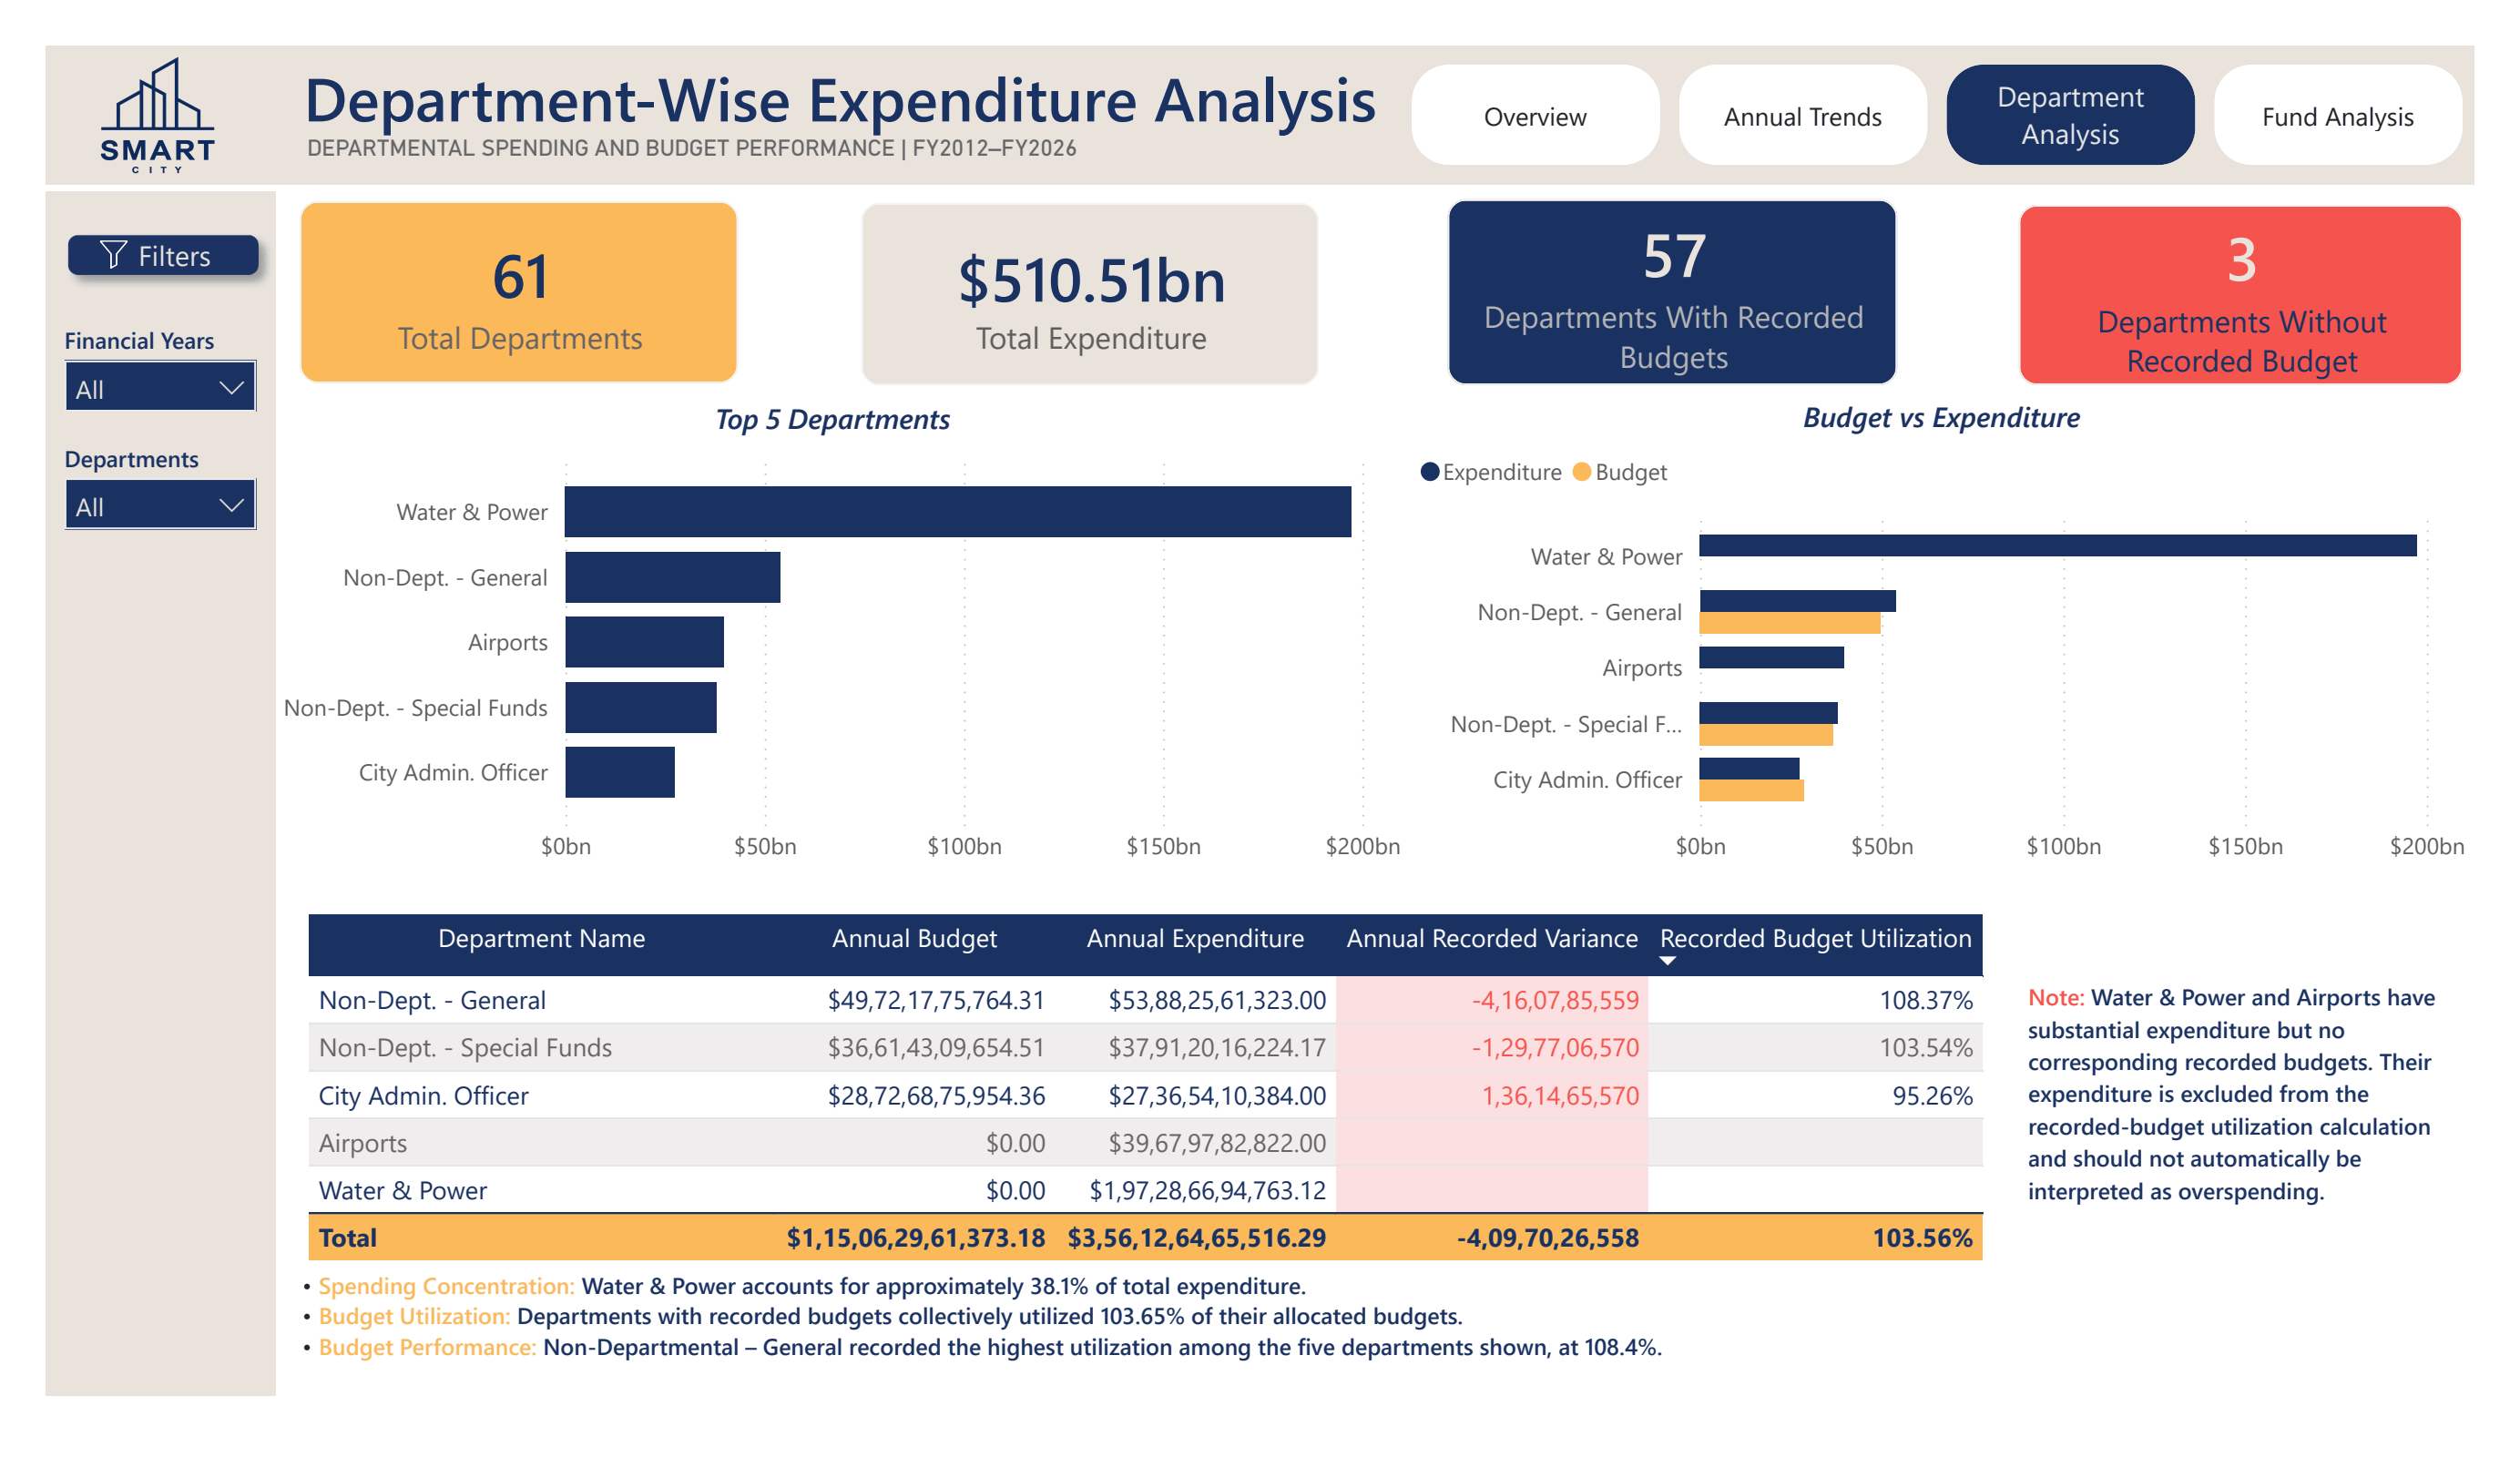

The page's visual inventory and layout, read from the dashboard file:
{"tool":"powerbi","page":{"name":"Department Analysis","canvas":[1280,720],"ordinal":2},"visuals":[{"type":"shape","box":[0,76.7,121.4,635.7],"z":0},{"type":"shape","box":[0,0,1280,72.9],"z":1000},{"type":"textbox","title":"LOS ANGELES CITY BUDGET | FY2012–FY2026","box":[131.4,0,628.6,145.7],"z":2000},{"type":"image","box":[4.3,0,107.1,72.9],"z":3000},{"type":"textbox","box":[132.9,38.6,482.9,100],"z":4000},{"type":"shape","box":[2.5,91.2,118.8,38.4],"z":5000},{"type":"image","box":[27.9,98.4,15.8,24.2],"z":6000},{"type":"textbox","box":[43.6,95,87.7,38.2],"z":7000},{"type":"slicer","fields":{"Values":["Dim_FiscalYear.Fiscal Year"]},"box":[0,156.4,120.9,43.6],"z":8000},{"type":"textbox","box":[4.5,141,133.5,30],"z":9000},{"type":"slicer","fields":{"Values":["Dim_Department.Department Name"]},"box":[0,217.8,121.1,70],"z":10000},{"type":"textbox","box":[4.7,202.7,133.3,30],"z":11000},{"type":"cardVisual","fields":{"Data":["Measures (2).Annual Department Expenditure"]},"box":[430,82.9,241.4,95.7],"z":12000},{"type":"cardVisual","fields":{"Data":["Measures (2).Total Departments"]},"box":[132.9,81.4,232.9,97.1],"z":13000},{"type":"cardVisual","fields":{"Data":["Measures (2).Departments With Recorded Budgets"]},"box":[738.6,81.4,237.1,97.1],"z":14000},{"type":"cardVisual","fields":{"Data":["Measures (2).Departments Without Recorded Budget"]},"box":[1040,84.3,234.3,94.3],"z":15000},{"type":"clusteredBarChart","title":"Top 5 Departments","fields":{"Y":["Measures (2).Annual Department Expenditure"],"Category":["Dim_Department.Department Display Name"]},"box":[111,186,608,254],"z":16000},{"type":"textbox","box":[150,467.1,638.6,105.7],"z":17000},{"type":"textbox","box":[1040,487.1,230,232.9],"z":18000},{"type":"clusteredBarChart","title":"Budget vs Expenditure","fields":{"Y":["Measures (2).Annual Department Expenditure","Measures (2).Annual Department Budget"],"Category":["Dim_Department.Department Display Name"]},"box":[719,185,561,255],"z":19000},{"type":"tableEx","fields":{"Values":["Dim_Department.Department Display Name","Measures (2).Annual Department Budget","Measures (2).Annual Department Expenditure","Measures (2).Annual Department Recorded Variance","Measures (2).Recorded Budget Utilization %"]},"box":[132.9,452.9,937.1,197.1],"z":20000},{"type":"textbox","box":[121.4,640,1058.6,80],"z":21000},{"type":"pageNavigator","box":[720,10,554.3,52.9],"z":22000}]}

Visuals, with their boxes on the page's 1280x720 design canvas (x1, y1, x2, y2). These are canvas units, not pixel positions in the 2520x1457 screenshot, which may show the page scaled, cropped or inside an application window:
shape: <box>0,77,121,712</box>
shape: <box>0,0,1280,73</box>
"LOS ANGELES CITY BUDGET | FY2012–FY2026" textbox: <box>131,0,760,146</box>
image: <box>4,0,111,73</box>
textbox: <box>133,39,616,139</box>
shape: <box>2,91,121,130</box>
image: <box>28,98,44,123</box>
textbox: <box>44,95,131,133</box>
slicer - Dim_FiscalYear.Fiscal Year: <box>0,156,121,200</box>
textbox: <box>4,141,138,171</box>
slicer - Dim_Department.Department Name: <box>0,218,121,288</box>
textbox: <box>5,203,138,233</box>
cardVisual - Measures (2).Annual Department Expenditure: <box>430,83,671,179</box>
cardVisual - Measures (2).Total Departments: <box>133,81,366,178</box>
cardVisual - Measures (2).Departments With Recorded Budgets: <box>739,81,976,178</box>
cardVisual - Measures (2).Departments Without Recorded Budget: <box>1040,84,1274,179</box>
"Top 5 Departments" clusteredBarChart: <box>111,186,719,440</box>
textbox: <box>150,467,789,573</box>
textbox: <box>1040,487,1270,720</box>
"Budget vs Expenditure" clusteredBarChart: <box>719,185,1280,440</box>
tableEx - Dim_Department.Department Display Name x Measures (2).Annual Department Budget: <box>133,453,1070,650</box>
textbox: <box>121,640,1180,720</box>
pageNavigator: <box>720,10,1274,63</box>
